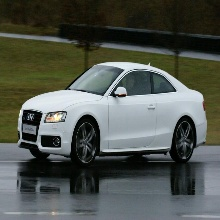no damage: (17, 61, 207, 165)
